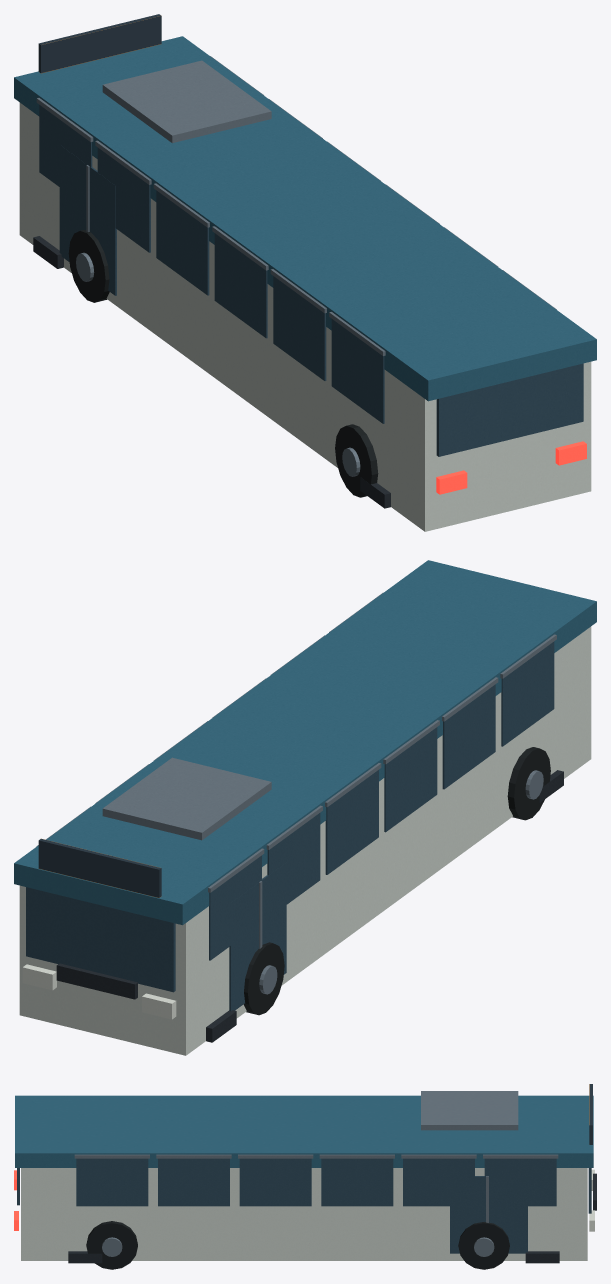
The model's file is stalled_bus.glb.
3 views of the same model, one above another, from view 1: azimuth 30°, elevation 25°; view 2: azimuth 150°, elevation 25°; view 3: azimuth 270°, elevation 25° (orthographic). The views are drawn at different scales.
Visible parts, largest first — view 1: VIS_CityBus_busblue, VIS_CityBus_bus, VIS_CityBus_glass, VIS_CityBus_steel, VIS_CityBus_bus_sign, VIS_CityBus_tire, VIS_CityBus_lensred, VIS_CityBus_blacksteel; view 2: VIS_CityBus_busblue, VIS_CityBus_bus, VIS_CityBus_glass, VIS_CityBus_steel, VIS_CityBus_bus_sign, VIS_CityBus_tire, VIS_CityBus_blacksteel, VIS_CityBus_whitepaint; view 3: VIS_CityBus_busblue, VIS_CityBus_bus, VIS_CityBus_glass, VIS_CityBus_steel, VIS_CityBus_tire, VIS_CityBus_blacksteel.
Part boxes in pixels (x1=…): VIS_CityBus_busblue: x1=14, y1=36, x2=596, y2=401; VIS_CityBus_bus: x1=19, y1=102, x2=591, y2=531; VIS_CityBus_glass: x1=39, y1=105, x2=583, y2=456; VIS_CityBus_steel: x1=36, y1=56, x2=556, y2=476; VIS_CityBus_bus_sign: x1=38, y1=14, x2=161, y2=73; VIS_CityBus_tire: x1=68, y1=230, x2=378, y2=497; VIS_CityBus_lensred: x1=436, y1=441, x2=586, y2=494; VIS_CityBus_blacksteel: x1=33, y1=236, x2=390, y2=508; VIS_CityBus_busblue: x1=14, y1=560, x2=596, y2=925; VIS_CityBus_bus: x1=19, y1=626, x2=591, y2=1055; VIS_CityBus_glass: x1=26, y1=641, x2=554, y2=1011; VIS_CityBus_steel: x1=36, y1=593, x2=556, y2=994; VIS_CityBus_bus_sign: x1=38, y1=838, x2=161, y2=897; VIS_CityBus_tire: x1=243, y1=747, x2=550, y2=1015; VIS_CityBus_blacksteel: x1=56, y1=770, x2=563, y2=1042; VIS_CityBus_whitepaint: x1=22, y1=964, x2=176, y2=1019; VIS_CityBus_busblue: x1=15, y1=1095, x2=593, y2=1167; VIS_CityBus_bus: x1=21, y1=1168, x2=587, y2=1260; VIS_CityBus_glass: x1=17, y1=1158, x2=591, y2=1253; VIS_CityBus_steel: x1=74, y1=1091, x2=558, y2=1256; VIS_CityBus_tire: x1=86, y1=1221, x2=509, y2=1269; VIS_CityBus_blacksteel: x1=68, y1=1173, x2=596, y2=1263.
Size of the model in its own units: 3.1 by 3.06 by 11.99.
Materials: 9 (9 with a texture image).
